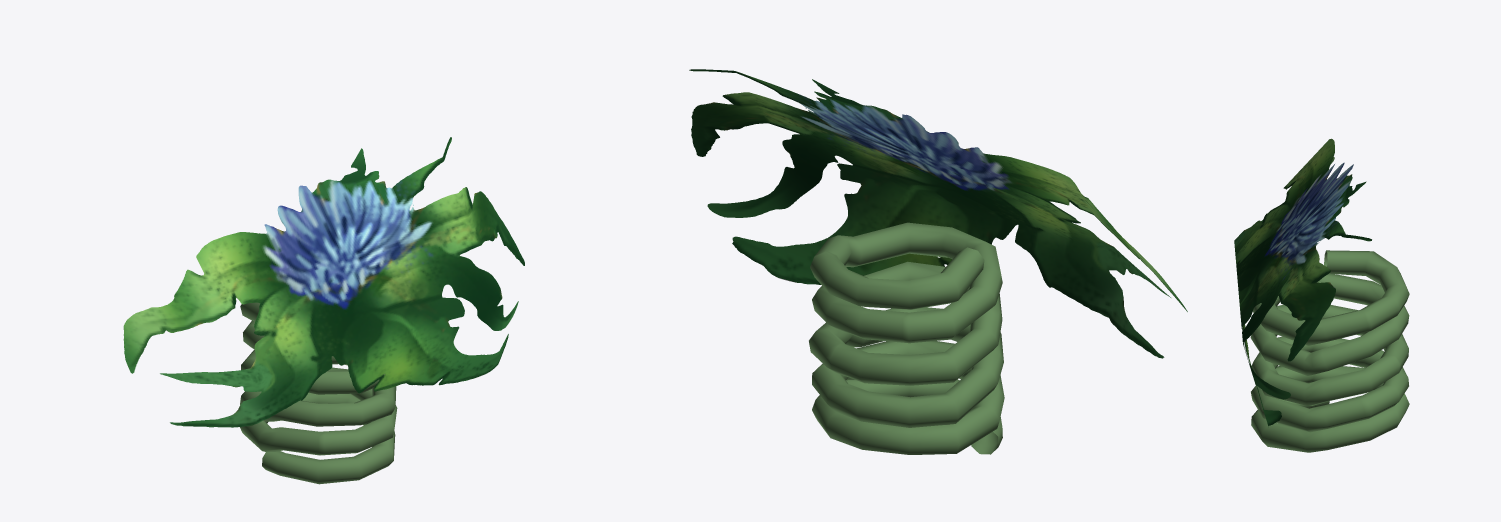
Rendered from jumpPlant2-1.fbx.
3 views of the same model, side by side, from view 1: azimuth 30°, elevation 25°; view 2: azimuth 150°, elevation 25°; view 3: azimuth 270°, elevation 25° (orthographic). The views are drawn at different scales.
Parts seen in each view (by area): view 1: pPlane6, extrudedSurface2; view 2: pPlane6, extrudedSurface2; view 3: extrudedSurface2, pPlane6.
Part boxes in pixels (<box>): pPlane6: <box>123,137,524,427</box>; extrudedSurface2: <box>240,302,397,484</box>; pPlane6: <box>689,69,1187,358</box>; extrudedSurface2: <box>809,222,1004,454</box>; extrudedSurface2: <box>1250,250,1409,452</box>; pPlane6: <box>1234,138,1371,426</box>.
Bounding box in the file's own units: 3.56 × 2.56 × 1.72.
